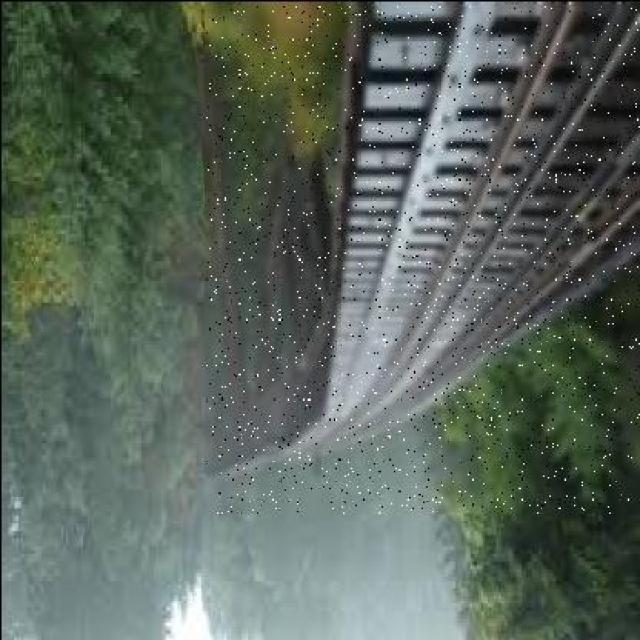rail: (205, 5, 638, 511)
